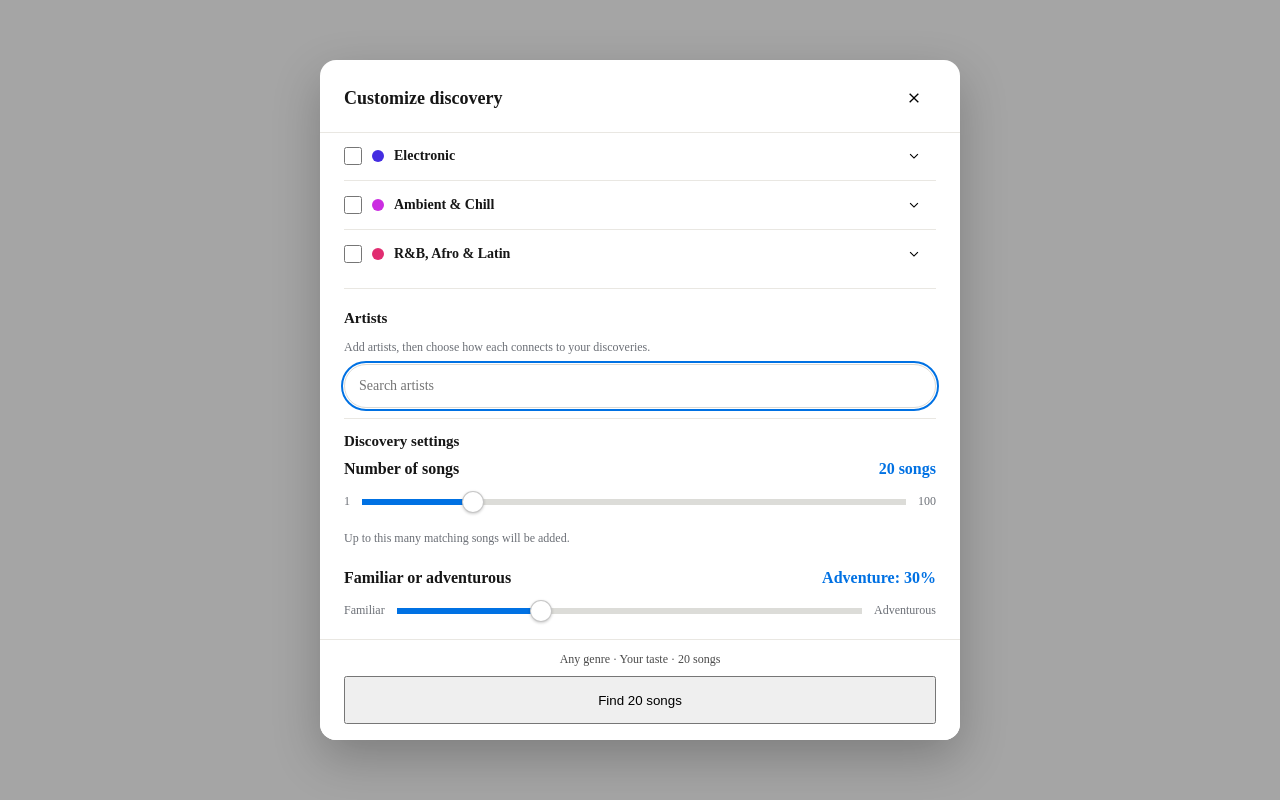
Scenario: Customize inputs keep focus while used › typing in the artist search keeps the field focused, through the results arriving
(page scrolled)
Type "k" into the search field with placeholder "Search artists". click: (640, 386)
box: [344,364,936,408]
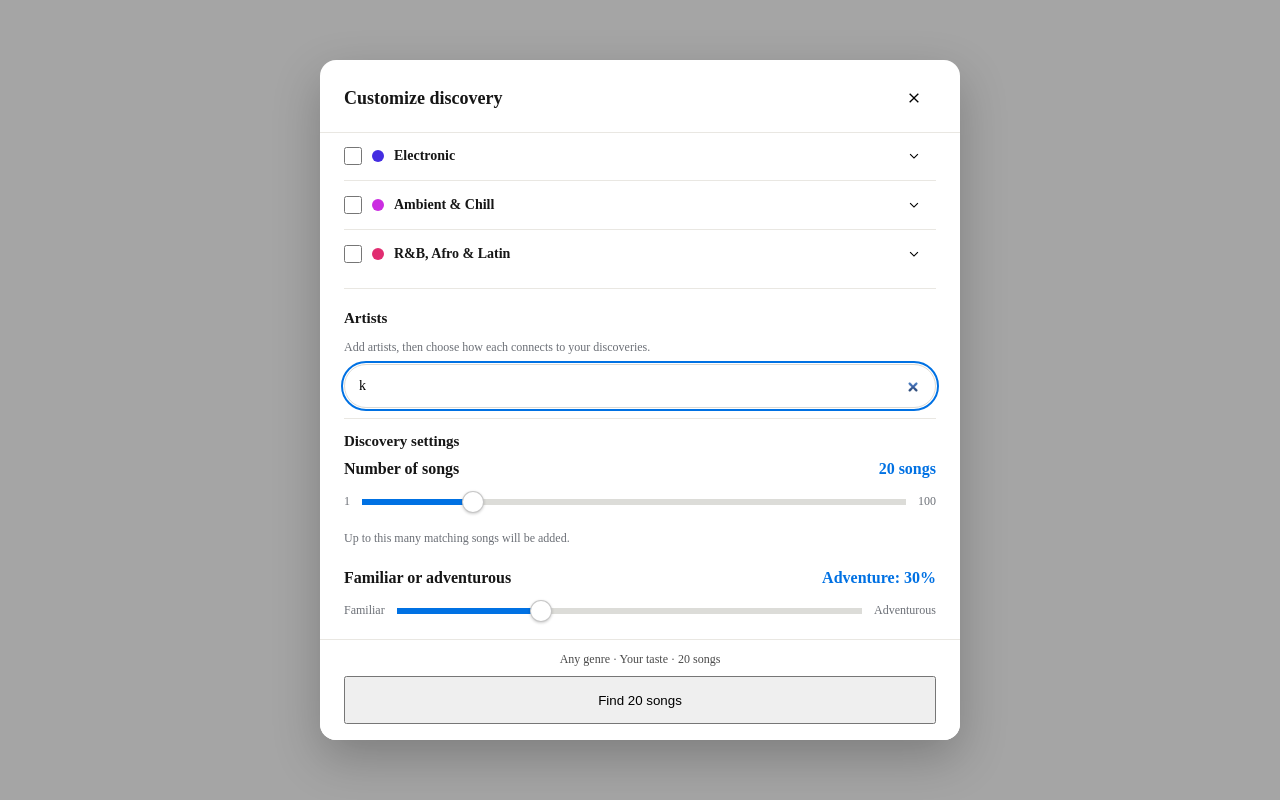
Replace the text in the search field named "Search artists" with "ke". click: (640, 386)
box: [344,364,936,408]
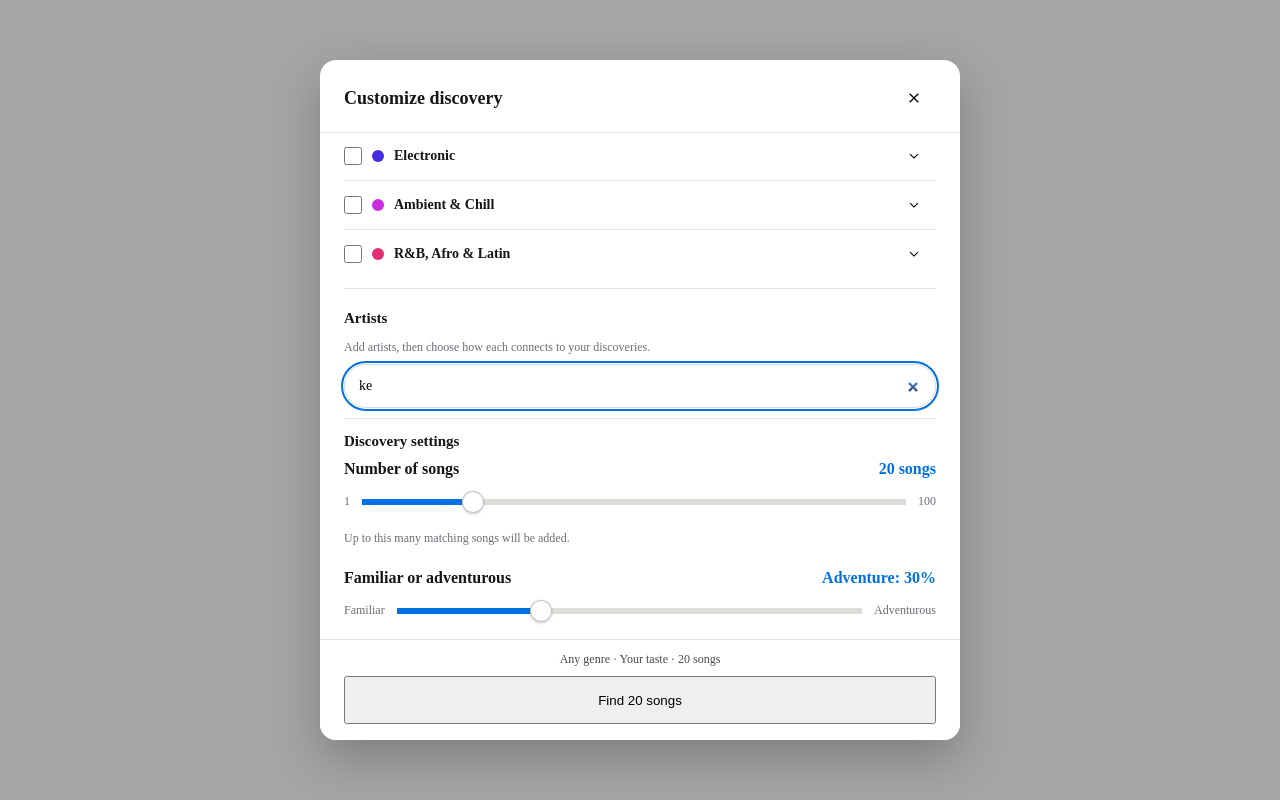
Replace the text in the search field named "Search artists" with "ken". click: (640, 386)
box: [344,364,936,408]
Wait 400 ms
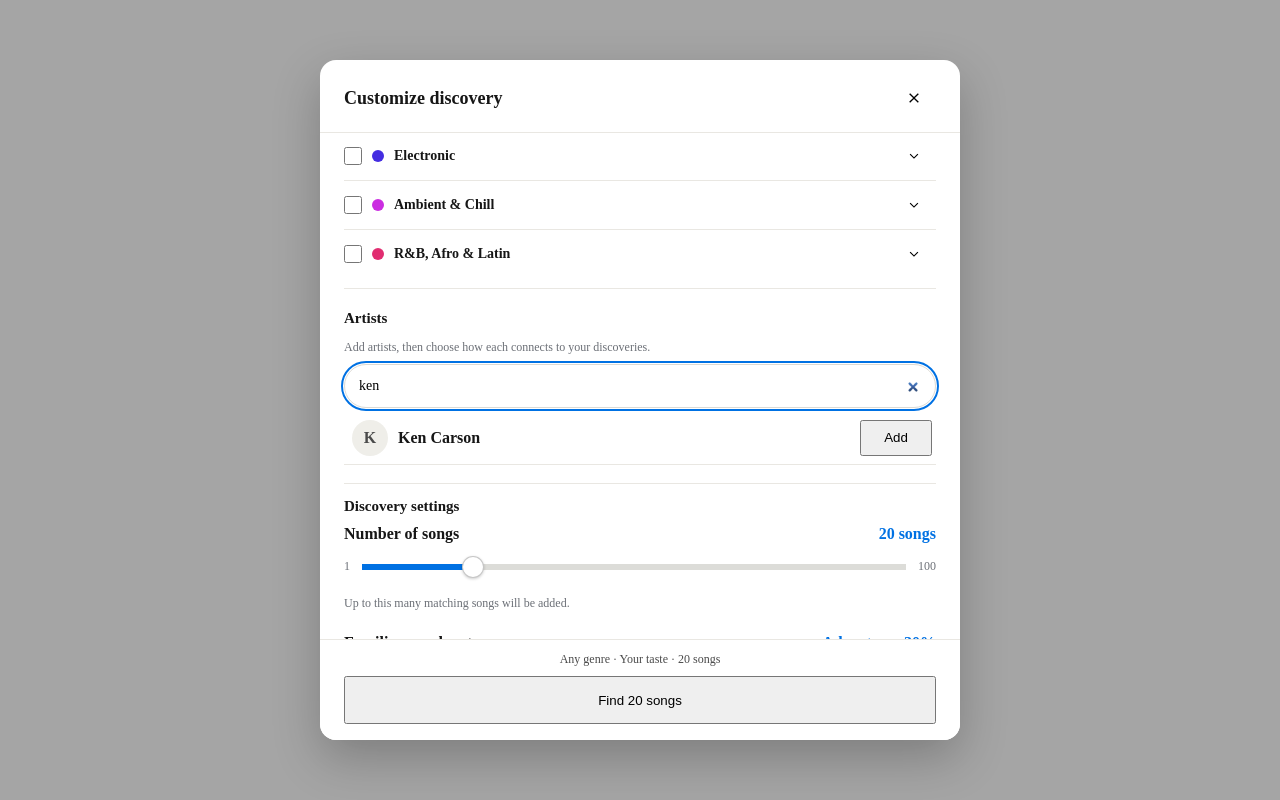
Now the text "Ken Carson" is shown, box [398,429,480,446]
